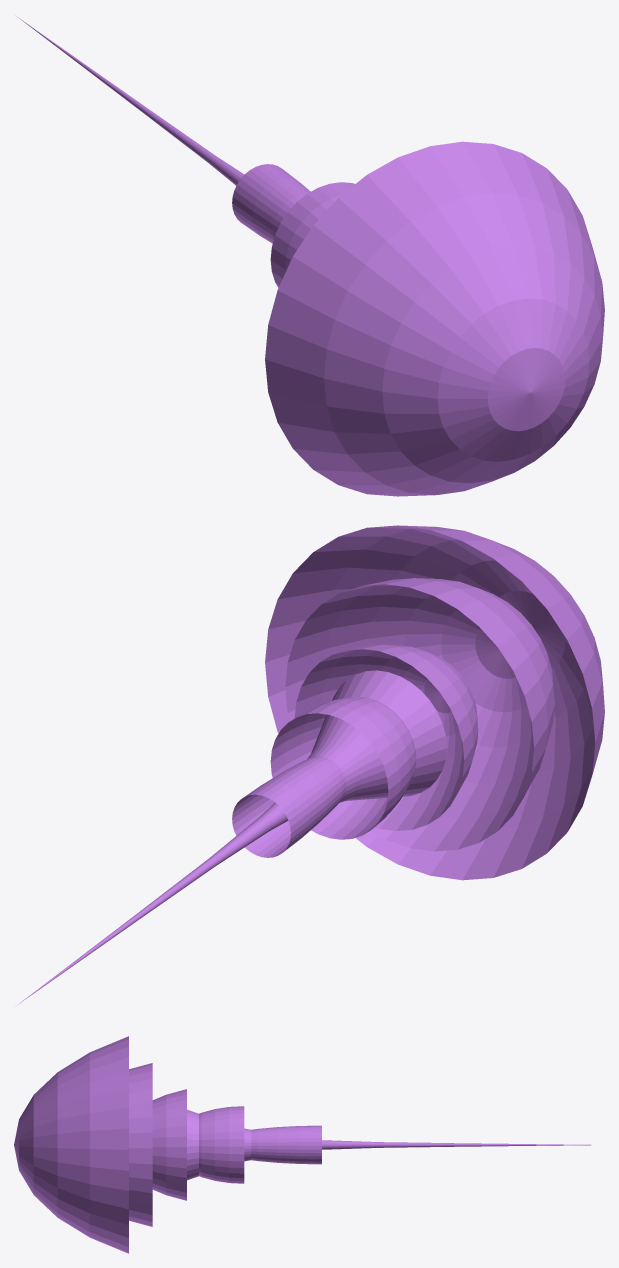
Rendered from Shockwave.fbx.
The picture shows the model from 3 angles, top to bottom: view 1: azimuth 30°, elevation 25°; view 2: azimuth 150°, elevation 25°; view 3: azimuth 270°, elevation 25°; orthographic projection. The views are drawn at different scales.
Parts seen in each view (by area): view 1: Sphere.002, Sphere.003, Sphere, Circle; view 2: Sphere.002, Sphere.001, Circle, Sphere.004, Sphere, Sphere.003; view 3: Sphere.002, Sphere.001, Sphere.004, Sphere, Sphere.003, Circle.
Part boxes in pixels (x1,y1,x2,y2): Sphere.002: (265,141,604,496); Sphere.003: (232,164,310,243); Sphere: (270,182,354,287); Circle: (18,17,244,185); Sphere.002: (265,525,604,880); Sphere.001: (285,578,554,851); Circle: (18,670,446,1004); Sphere.004: (294,644,478,830); Sphere: (270,696,416,839); Sphere.003: (232,756,346,857); Sphere.002: (14,1036,128,1253); Sphere.001: (129,1063,152,1226); Sphere.004: (152,1089,186,1200); Sphere: (199,1106,244,1183); Sphere.003: (251,1125,321,1164); Circle: (187,1109,590,1180).
Size of the model in its own units: 561 by 561 by 1521.
